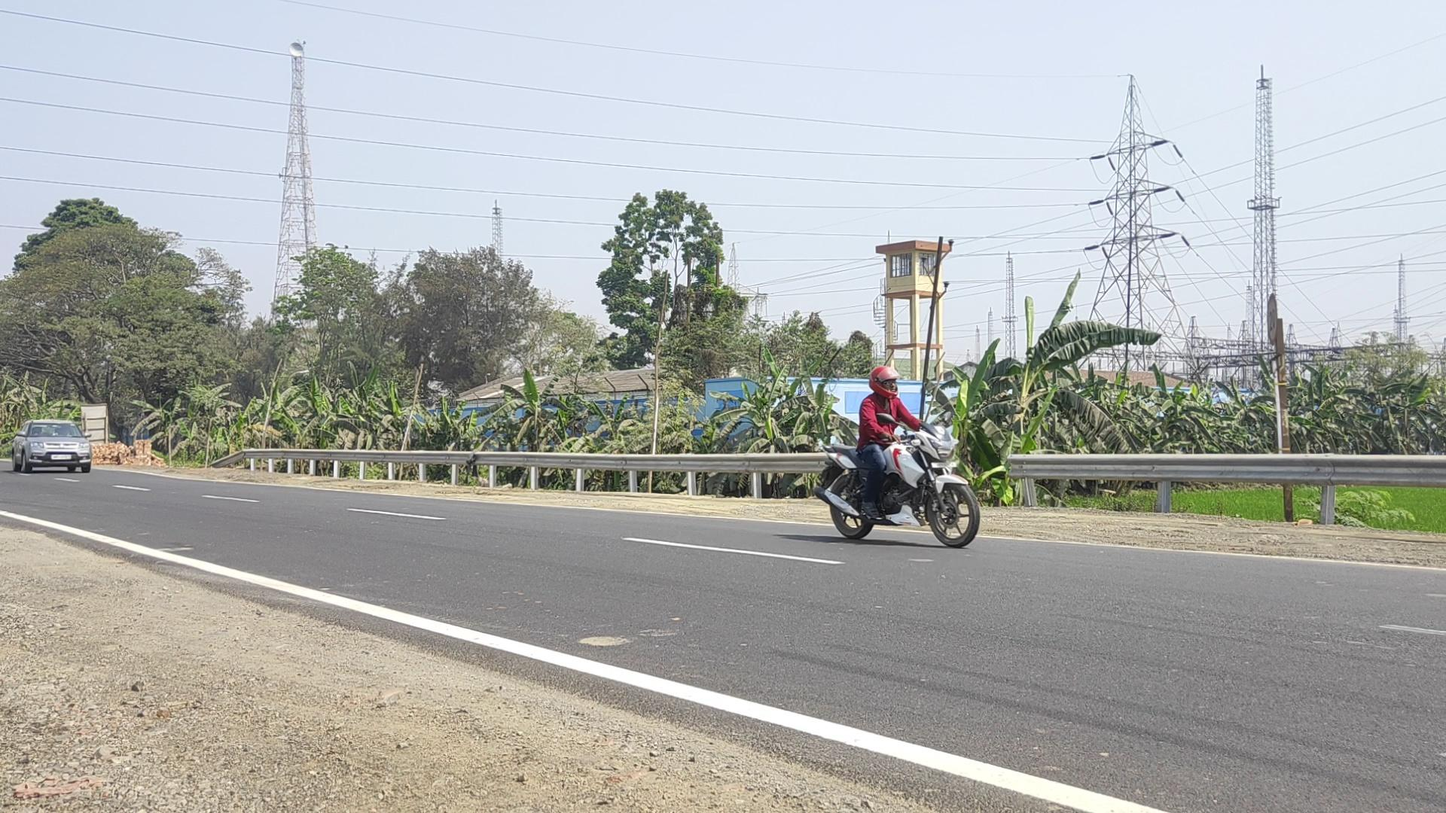bike: (813, 366, 981, 547)
car: (11, 419, 92, 474)
